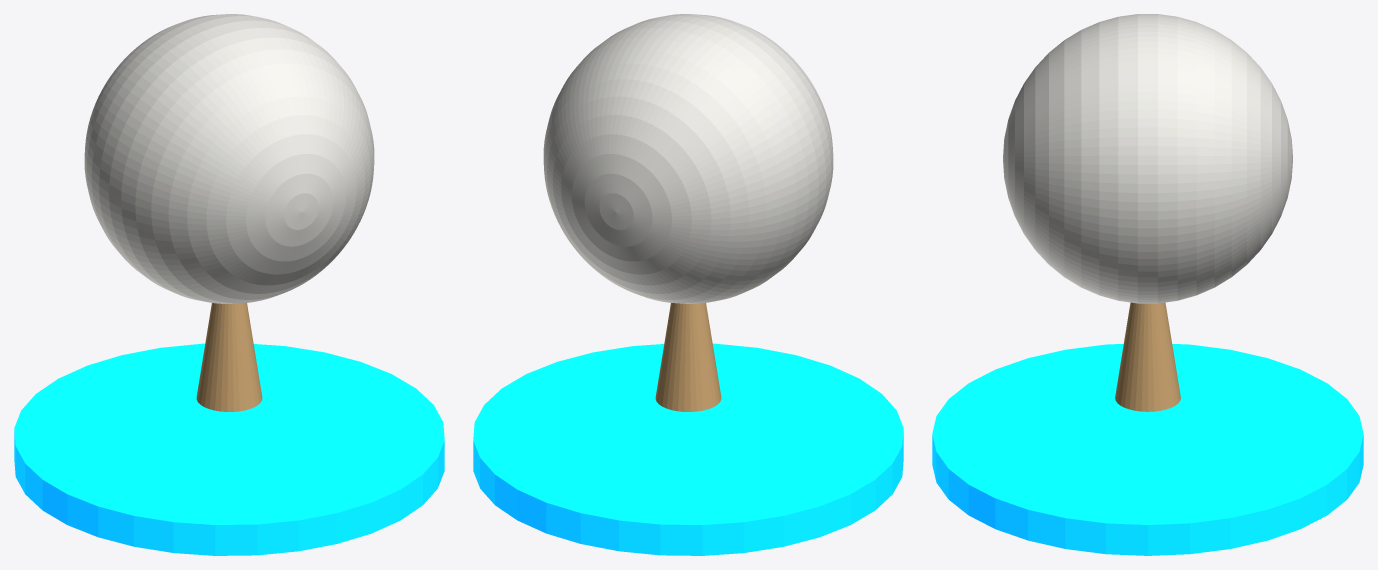
File: sports_golf_ball.glb
The picture shows the model from 3 angles, left to right: view 1: azimuth 30°, elevation 25°; view 2: azimuth 150°, elevation 25°; view 3: azimuth 270°, elevation 25°; orthographic projection.
Parts seen in each view (by area): view 1: 04_07_Popular_Sports_Golf_Ball_ROOT_base, 04_07_Popular_Sports_Golf_Ball_part_01, 04_07_Popular_Sports_Golf_Ball_part_02; view 2: 04_07_Popular_Sports_Golf_Ball_ROOT_base, 04_07_Popular_Sports_Golf_Ball_part_01, 04_07_Popular_Sports_Golf_Ball_part_02; view 3: 04_07_Popular_Sports_Golf_Ball_ROOT_base, 04_07_Popular_Sports_Golf_Ball_part_01, 04_07_Popular_Sports_Golf_Ball_part_02.
Boxes of the visible parts, left/top/right/bottom form: 04_07_Popular_Sports_Golf_Ball_ROOT_base: left=14, top=343, right=444, bottom=555; 04_07_Popular_Sports_Golf_Ball_part_01: left=84, top=14, right=374, bottom=303; 04_07_Popular_Sports_Golf_Ball_part_02: left=196, top=303, right=262, bottom=411; 04_07_Popular_Sports_Golf_Ball_ROOT_base: left=473, top=343, right=903, bottom=555; 04_07_Popular_Sports_Golf_Ball_part_01: left=543, top=14, right=833, bottom=303; 04_07_Popular_Sports_Golf_Ball_part_02: left=655, top=303, right=721, bottom=411; 04_07_Popular_Sports_Golf_Ball_ROOT_base: left=932, top=344, right=1363, bottom=555; 04_07_Popular_Sports_Golf_Ball_part_01: left=1003, top=14, right=1292, bottom=303; 04_07_Popular_Sports_Golf_Ball_part_02: left=1115, top=302, right=1180, bottom=411.
Size of the model in its own units: 0.76 by 0.85 by 0.76.
